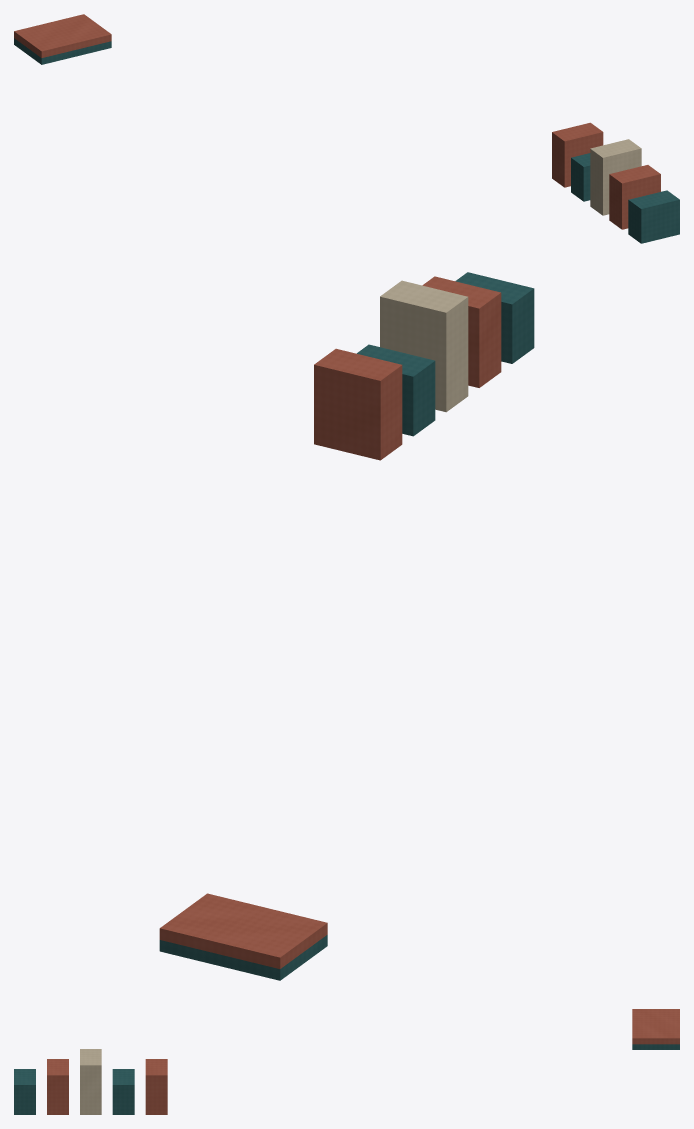
File: detail_props.glb
The picture shows the model from 3 angles, top to bottom: view 1: azimuth 30°, elevation 25°; view 2: azimuth 150°, elevation 25°; view 3: azimuth 270°, elevation 25°; orthographic projection. The views are drawn at different scales.
Visible parts, largest first — view 1: SUI_TableBook_1, SUI_DeskBook_0, SUI_DeskBook_2, SUI_DeskBook_1, SUI_DeskBook_4, SUI_DeskBook_3, SUI_TableBook_0; view 2: SUI_DeskBook_4, SUI_TableBook_1, SUI_DeskBook_2, SUI_DeskBook_1, SUI_DeskBook_3, SUI_DeskBook_0, SUI_TableBook_0; view 3: SUI_TableBook_1, SUI_DeskBook_2, SUI_DeskBook_4, SUI_DeskBook_1, SUI_DeskBook_3, SUI_DeskBook_0, SUI_TableBook_0.
Part boxes in pixels (x1,y1,x2,y2): SUI_TableBook_1: (14,14,111,57); SUI_DeskBook_0: (628,190,679,243); SUI_DeskBook_2: (590,139,641,215); SUI_DeskBook_1: (609,165,660,229); SUI_DeskBook_4: (552,122,603,187); SUI_DeskBook_3: (571,153,590,201); SUI_TableBook_0: (14,38,111,64); SUI_DeskBook_4: (314,348,402,460); SUI_TableBook_1: (159,893,327,968); SUI_DeskBook_2: (380,280,468,412); SUI_DeskBook_1: (422,276,501,387); SUI_DeskBook_3: (357,344,435,436); SUI_DeskBook_0: (455,272,534,363); SUI_TableBook_0: (159,935,327,980); SUI_TableBook_1: (632,1009,679,1044); SUI_DeskBook_2: (80,1049,101,1114); SUI_DeskBook_4: (145,1059,167,1114); SUI_DeskBook_1: (47,1059,68,1114); SUI_DeskBook_3: (112,1069,134,1114); SUI_DeskBook_0: (14,1069,35,1114); SUI_TableBook_0: (632,1044,679,1049).
Bounding box in the file's own units: 1.51 × 0.435 × 3.64.
3 materials, 3 textured.
